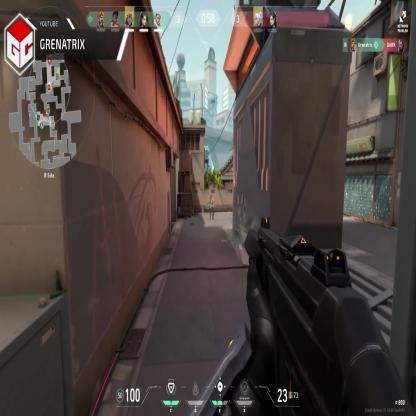enemy: (209, 193, 214, 220)
enemy_head: (211, 194, 213, 199)
